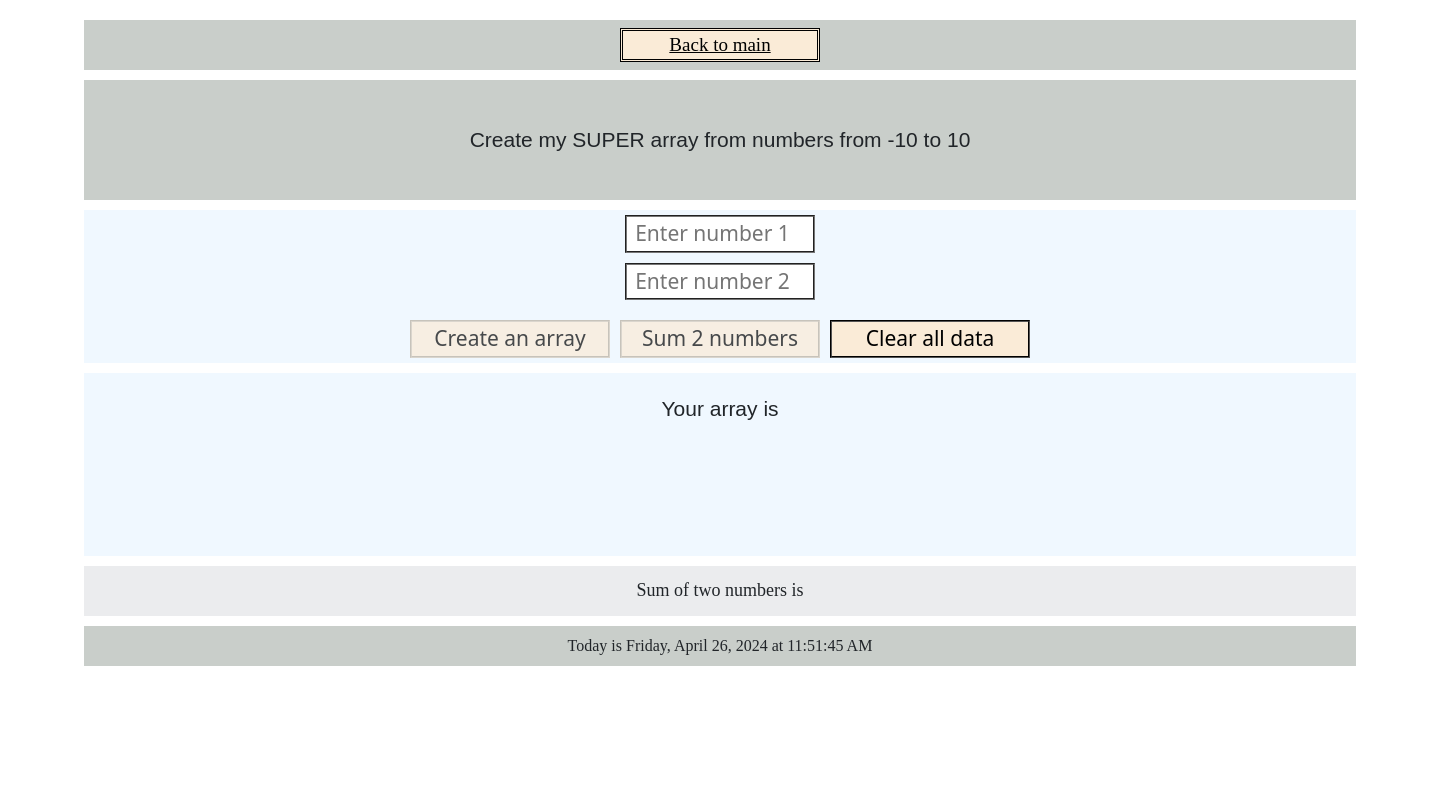
clear data › clear data with only array
Type "5" into the number field with id "num1" at (720, 234), box top-left (625, 215), bottom-right (815, 253)
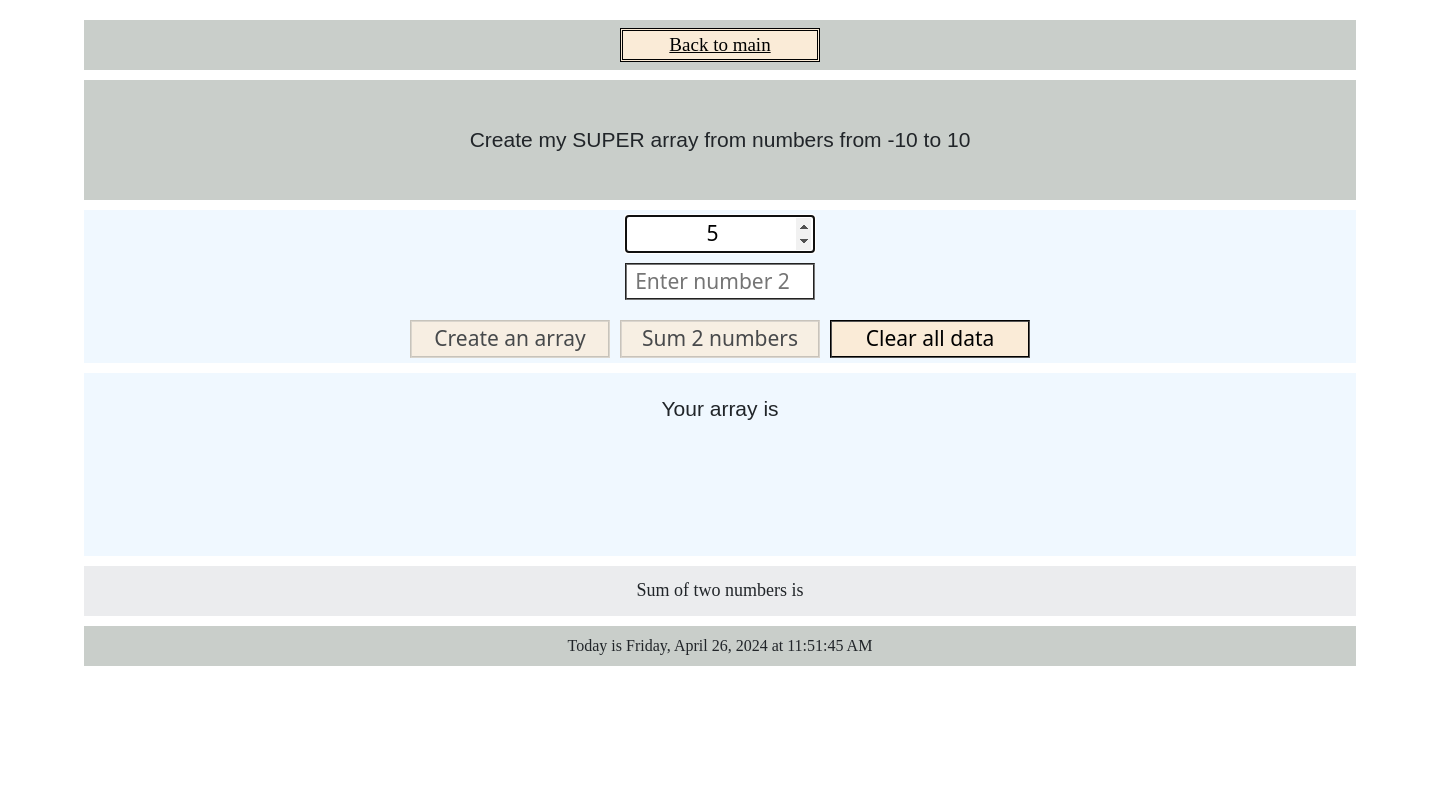
Type "7" into the number field with id "num2" at (720, 282), box top-left (625, 263), bottom-right (815, 301)
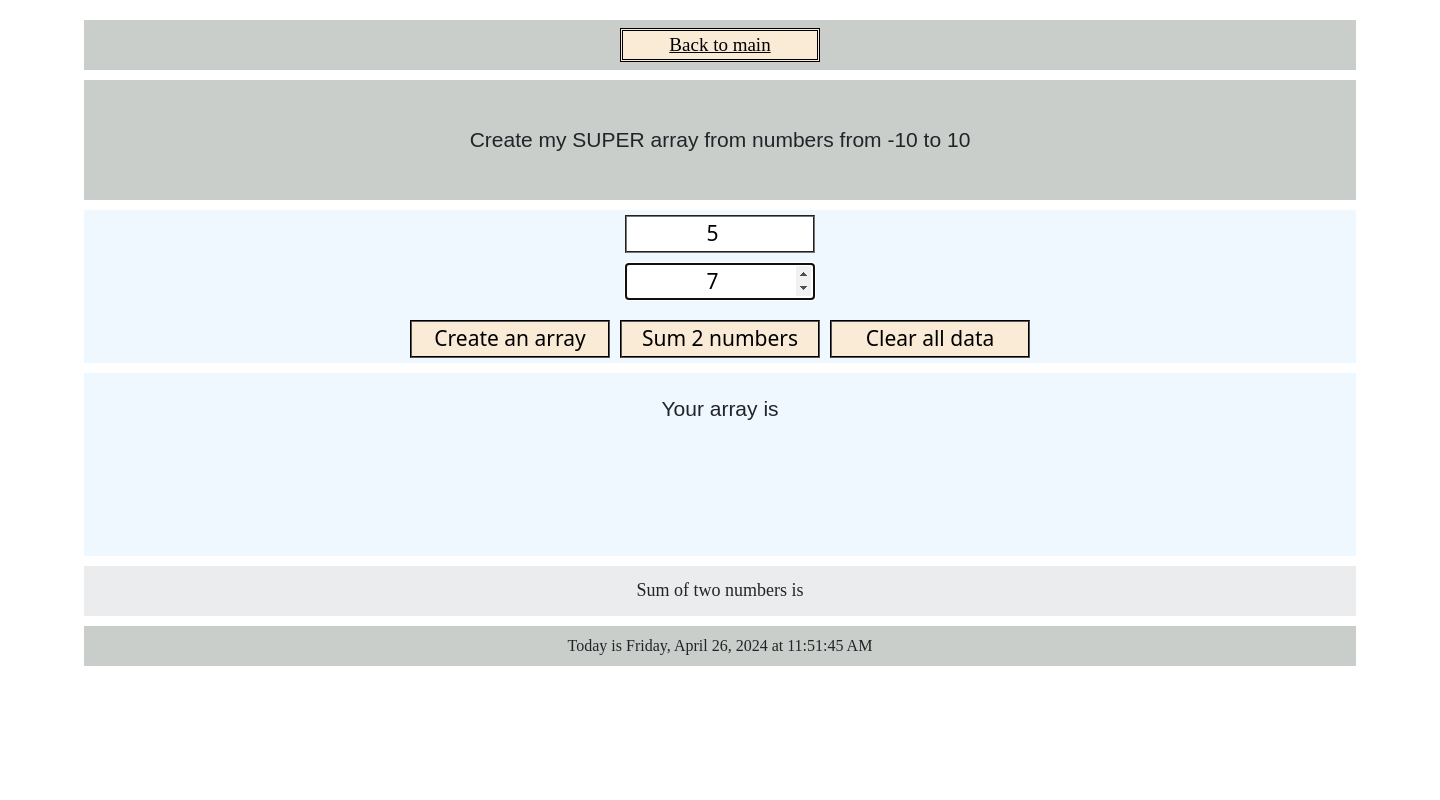
Click the button with id "createArray" at (510, 339), box top-left (410, 320), bottom-right (610, 358)
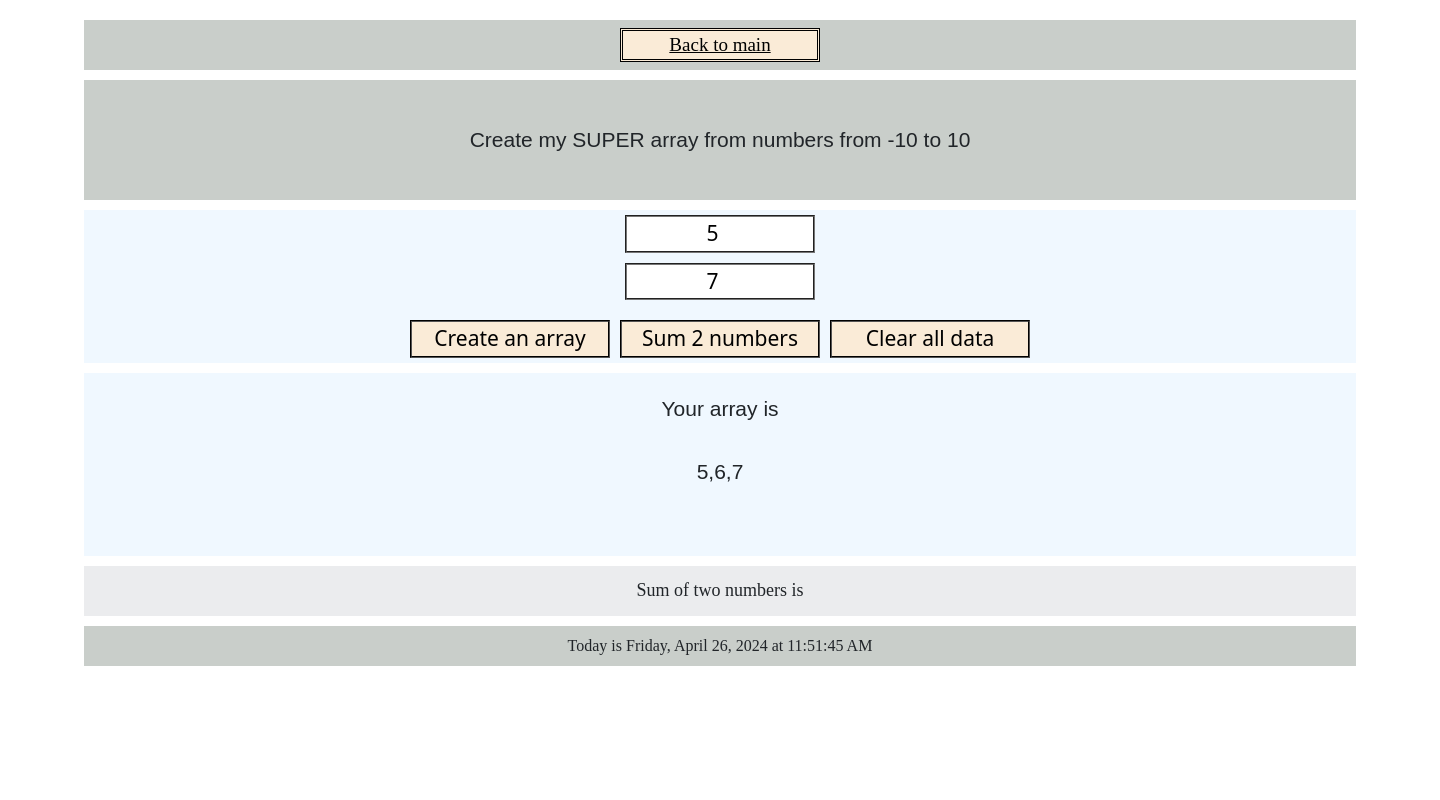
Now the element with id "array" shows "5,6,7", box top-left (84, 373), bottom-right (1356, 556)
Click the button with id "reset" at (930, 339), box top-left (830, 320), bottom-right (1030, 358)
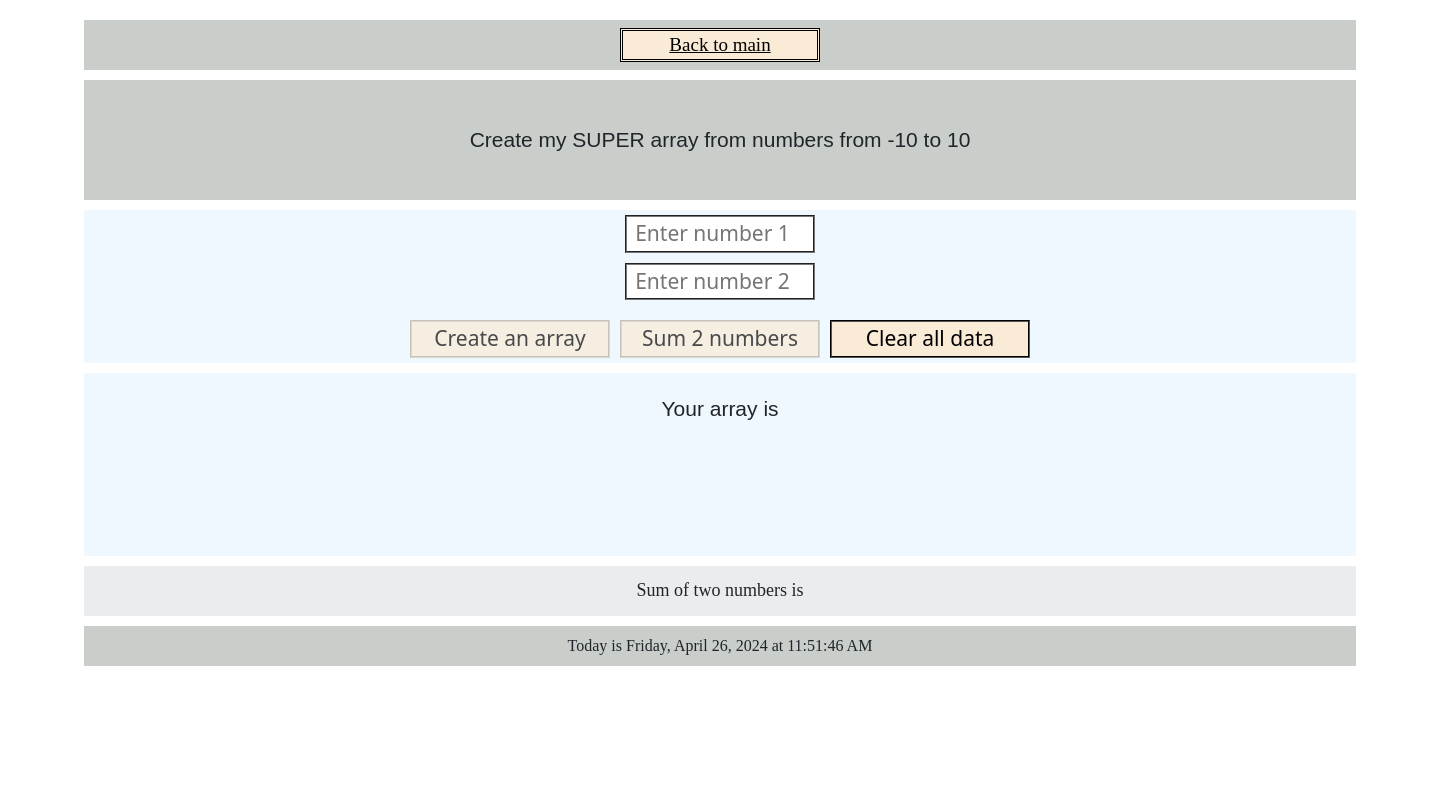
Now the element with id "array" no longer shows "5,6,7"
